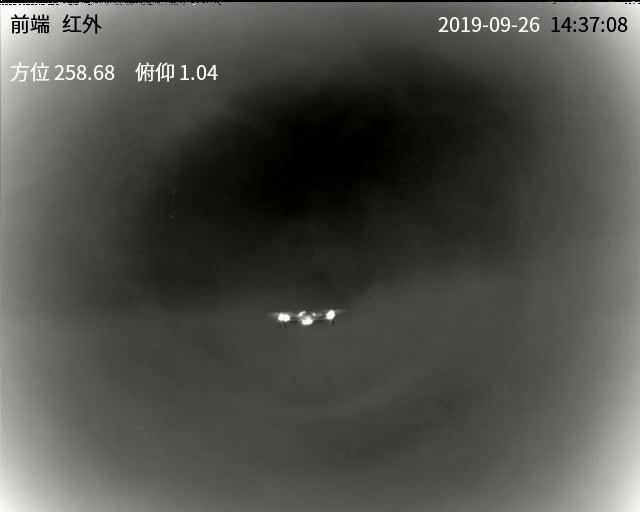DRONE: (276, 307, 340, 330)
